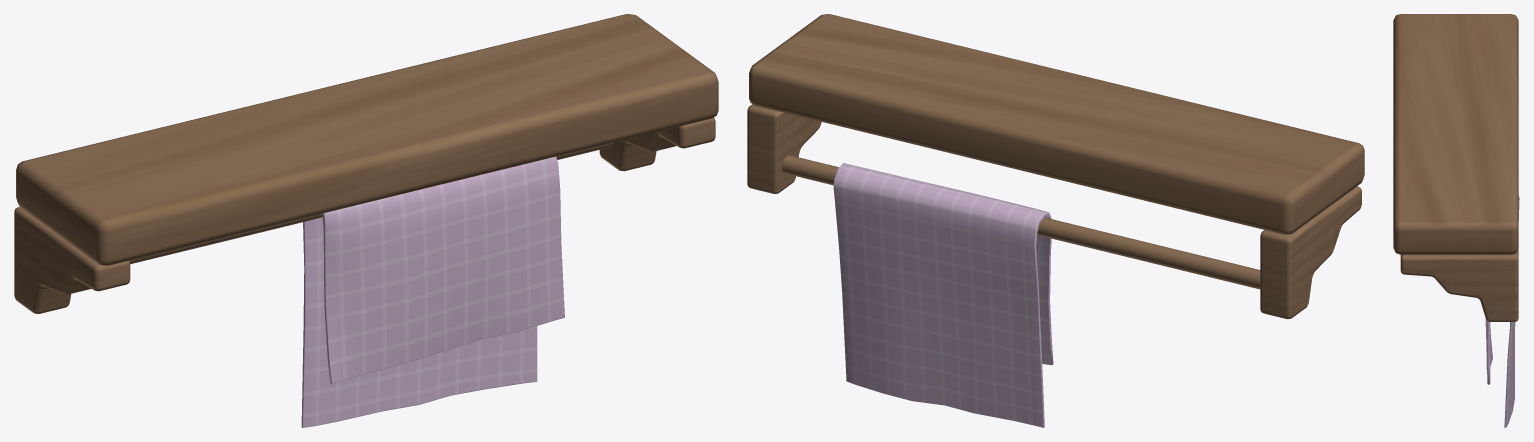
The model's file is WallShelf.obj.
3 renders of one model, left to right at view 1: azimuth 30°, elevation 25°; view 2: azimuth 150°, elevation 25°; view 3: azimuth 270°, elevation 25°, orthographic. The views are drawn at different scales.
Visible parts, largest first — view 1: WallShelf_TopSG1, WallShelf_initialShadingGroup, WallShelf_LegSG1, WallShelf_PoleSG1; view 2: WallShelf_TopSG1, WallShelf_initialShadingGroup, WallShelf_LegSG1, WallShelf_PoleSG1; view 3: WallShelf_TopSG1, WallShelf_LegSG1, WallShelf_initialShadingGroup.
Part boxes in pixels (x1,y1,x2,y2): WallShelf_TopSG1: (16, 14, 718, 265); WallShelf_initialShadingGroup: (301, 156, 564, 427); WallShelf_LegSG1: (14, 117, 715, 313); WallShelf_PoleSG1: (129, 142, 613, 264); WallShelf_TopSG1: (749, 14, 1364, 234); WallShelf_initialShadingGroup: (833, 163, 1053, 427); WallShelf_LegSG1: (747, 104, 1361, 319); WallShelf_PoleSG1: (782, 155, 1260, 289); WallShelf_TopSG1: (1393, 14, 1518, 254); WallShelf_LegSG1: (1400, 249, 1518, 321); WallShelf_initialShadingGroup: (1485, 195, 1519, 427).
Bounding box in the file's own units: 5.93 × 3.11 × 1.48.
4 materials, 4 textured.
